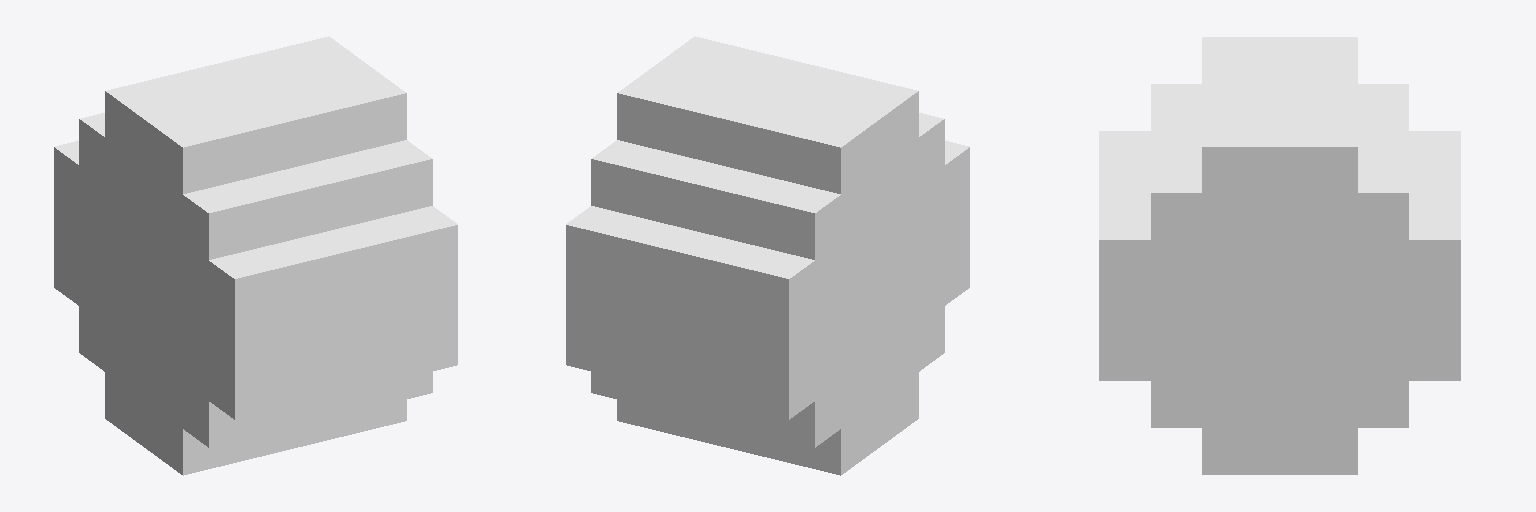
File: moto2_llanta.obj
3 renders of one model, left to right at view 1: azimuth 30°, elevation 25°; view 2: azimuth 150°, elevation 25°; view 3: azimuth 270°, elevation 25°, orthographic.
Parts seen in each view (by area): view 1: moto2_llanta; view 2: moto2_llanta; view 3: moto2_llanta.
Boxes of the visible parts, box(x1,y1,x2,y2) form: moto2_llanta: box(54, 36, 457, 475); moto2_llanta: box(566, 36, 969, 475); moto2_llanta: box(1099, 37, 1460, 474).
Bounding box in the file's own units: 0.5 × 0.7 × 0.7.